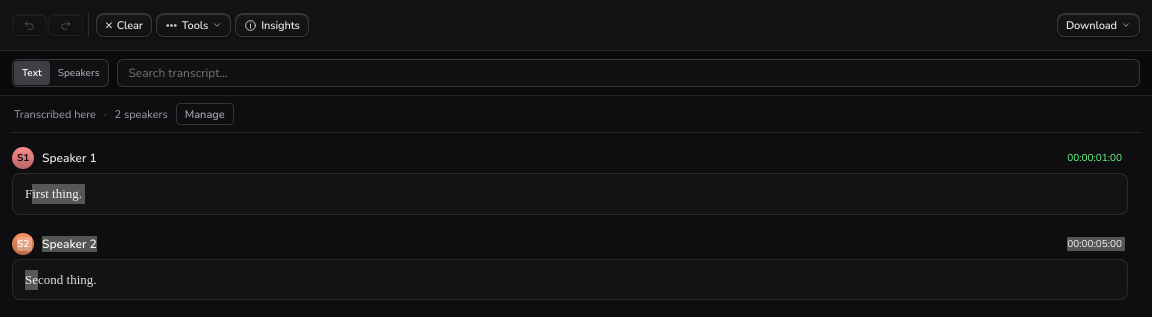
it: splitting a speaker by selecting their dialogue › offers the split on a selection, sized in lines
Expected: the button with class "cp-tx-cue" showing "First thing." is shown, [25, 186, 82, 201]
Step 1. Right-click the button with class "cp-tx-cue" showing "Second thing." → (61, 279), box [25, 272, 96, 286]
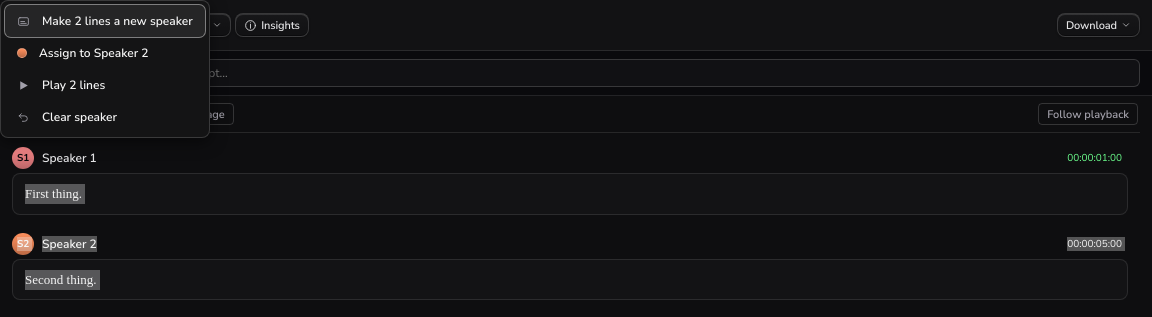
Now the menu item "Make 2 lines a new speaker" is shown, box [5, 5, 205, 37]
